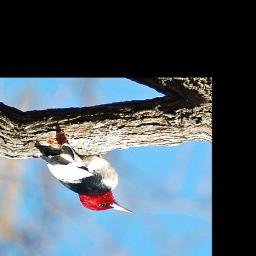Woodpecker: (27, 139, 151, 217)
